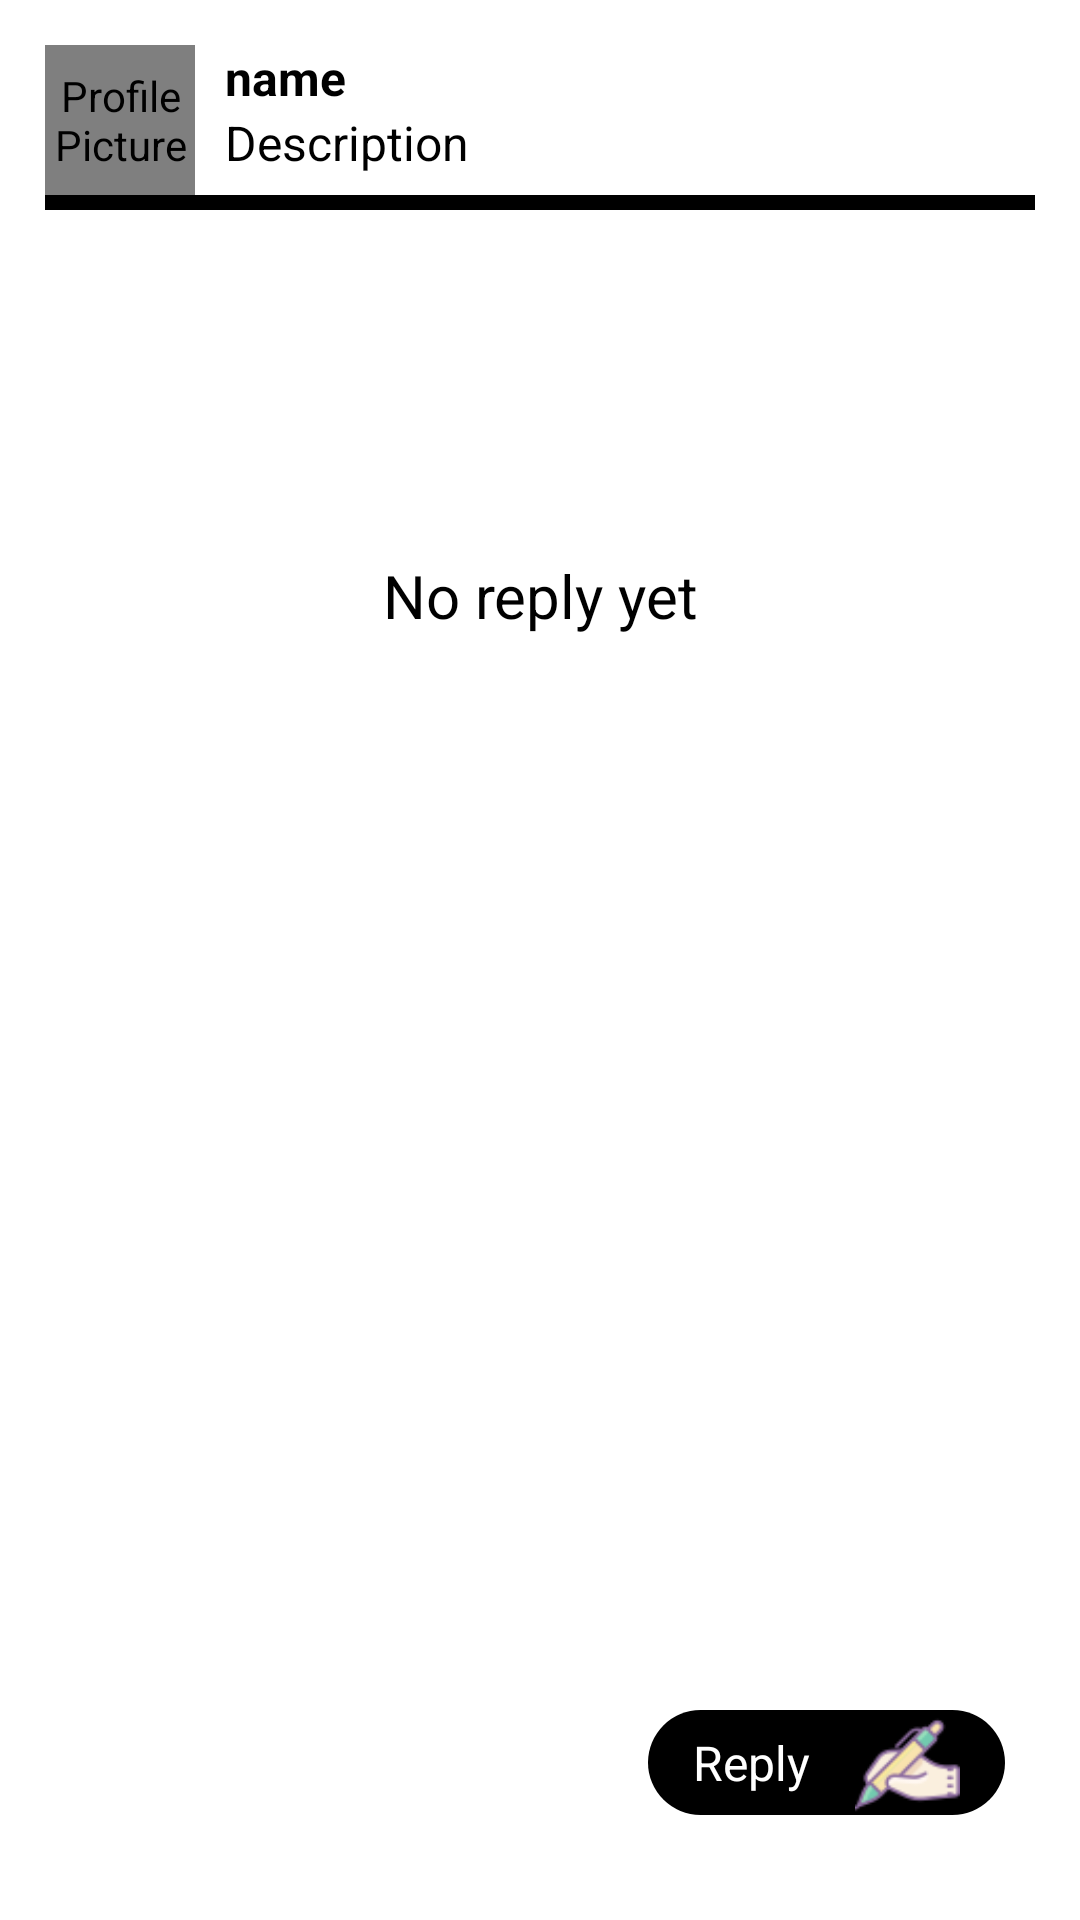

Screen size 1080x1920. Icon name, then its center in pixels as point (x, y):
hand: point (907, 1762)
